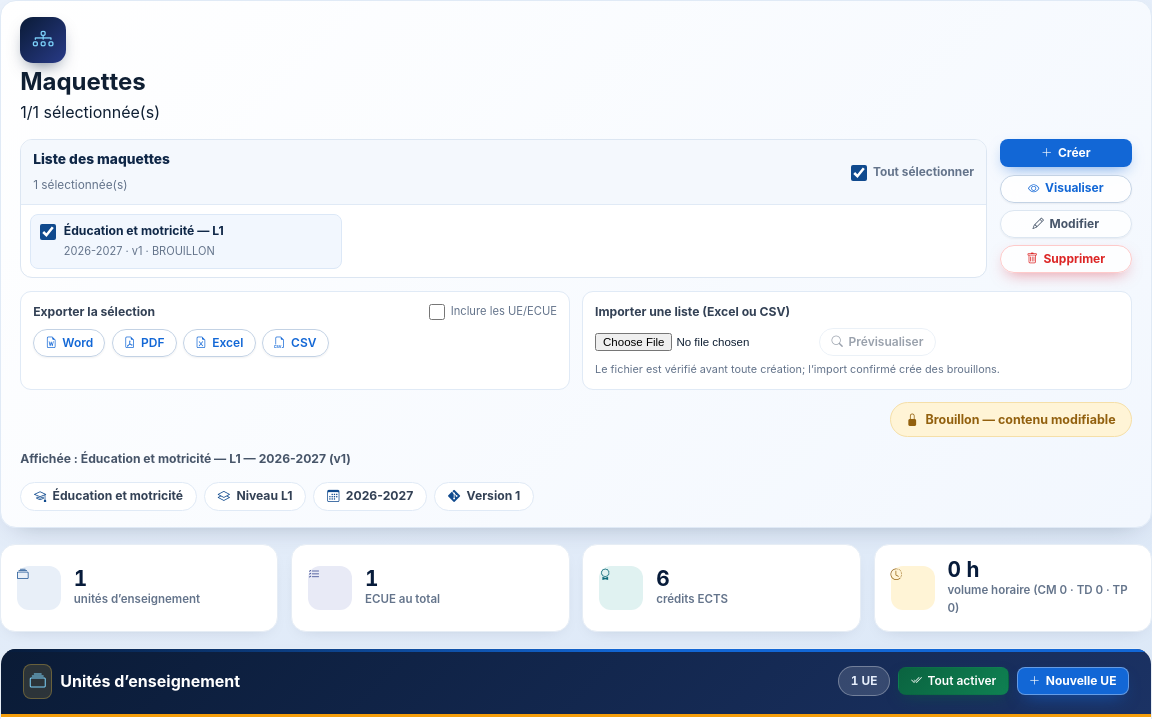
Test: création › crée une UE et envoie un corps typé à l’API
Click the button with test id "nouvelle-ue": (1073, 681) [1017,667,1129,695]
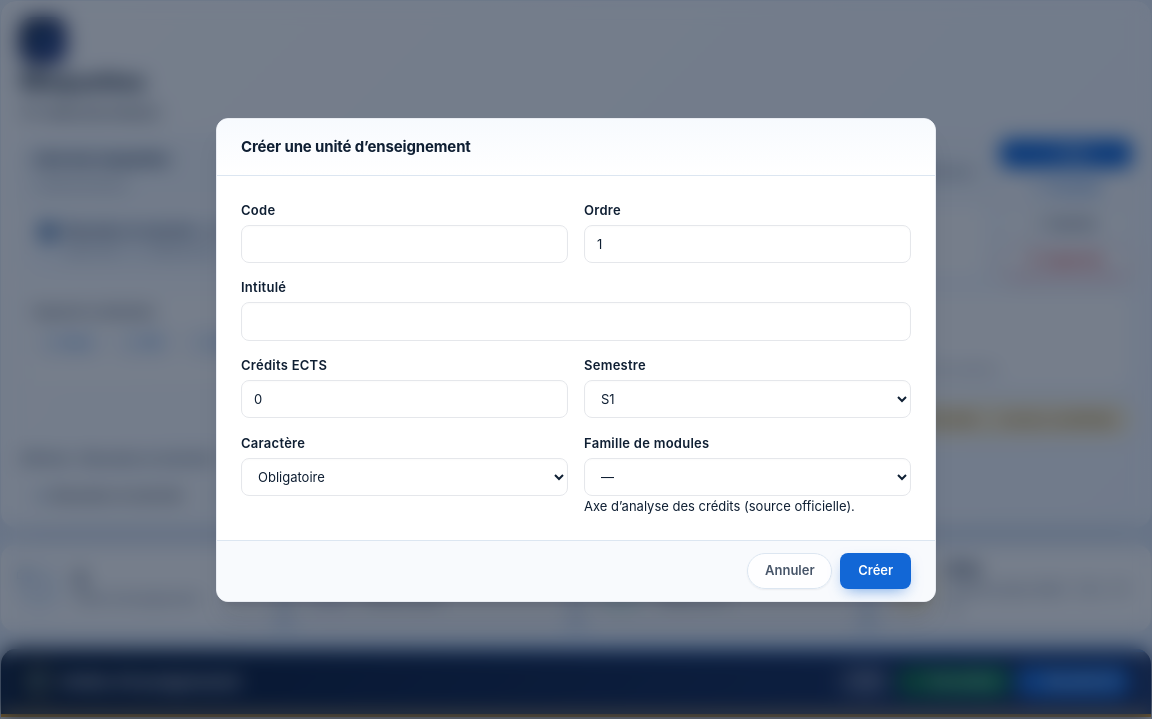
In the field with test id "element-code": (404, 244) [241,225,568,263], type "EM-S1-UE99"
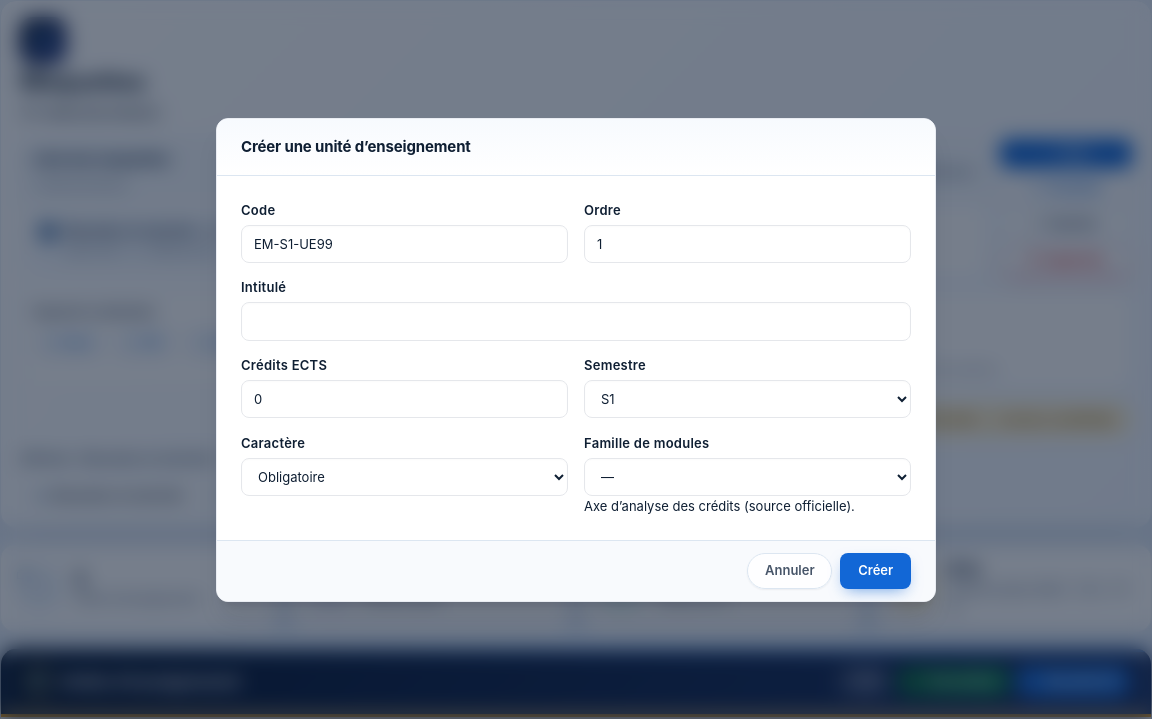
In the field with test id "element-intitule": (576, 322) [241,302,911,341], type "Nouvelle UE"
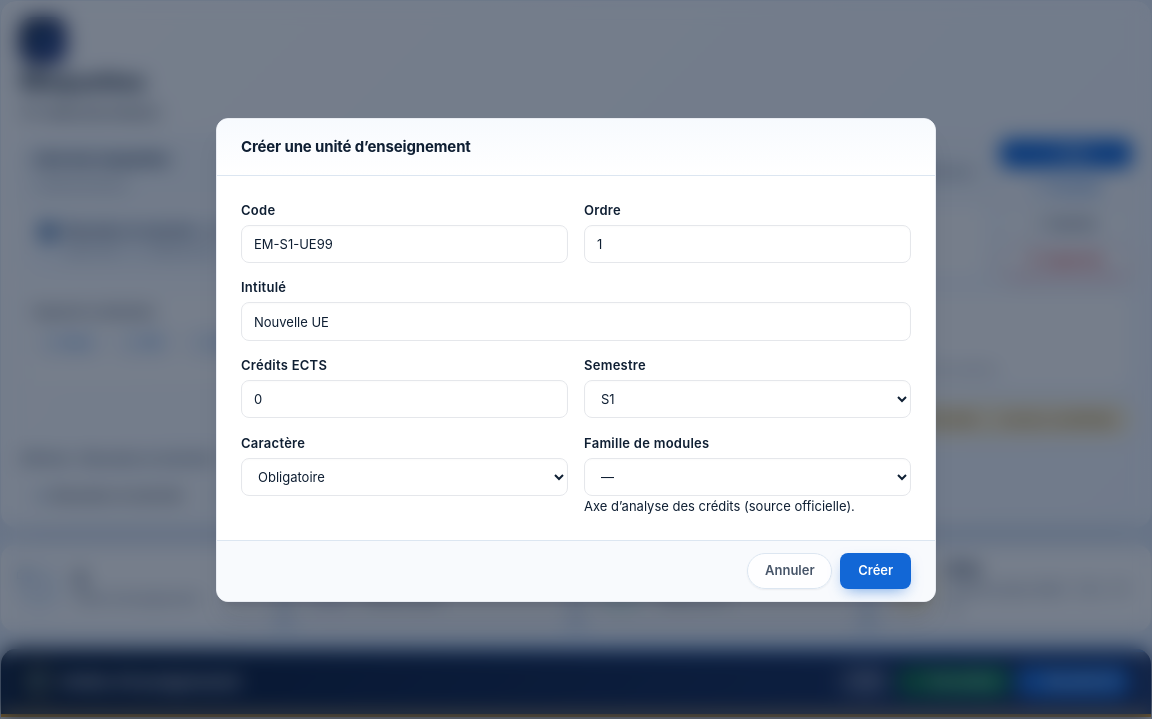
Replace the text in the number field with test id "element-credits" with "4": (404, 399) [241,380,568,418]
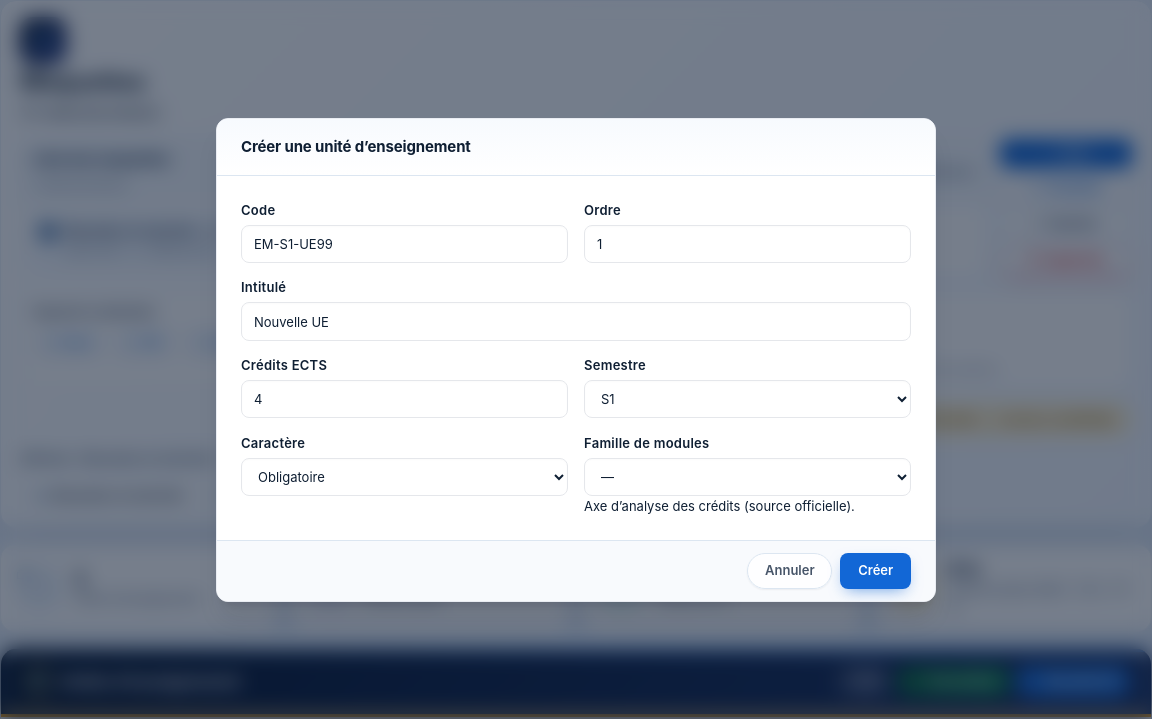
Submit the form with test id "formulaire-element", box [217,176,935,600]
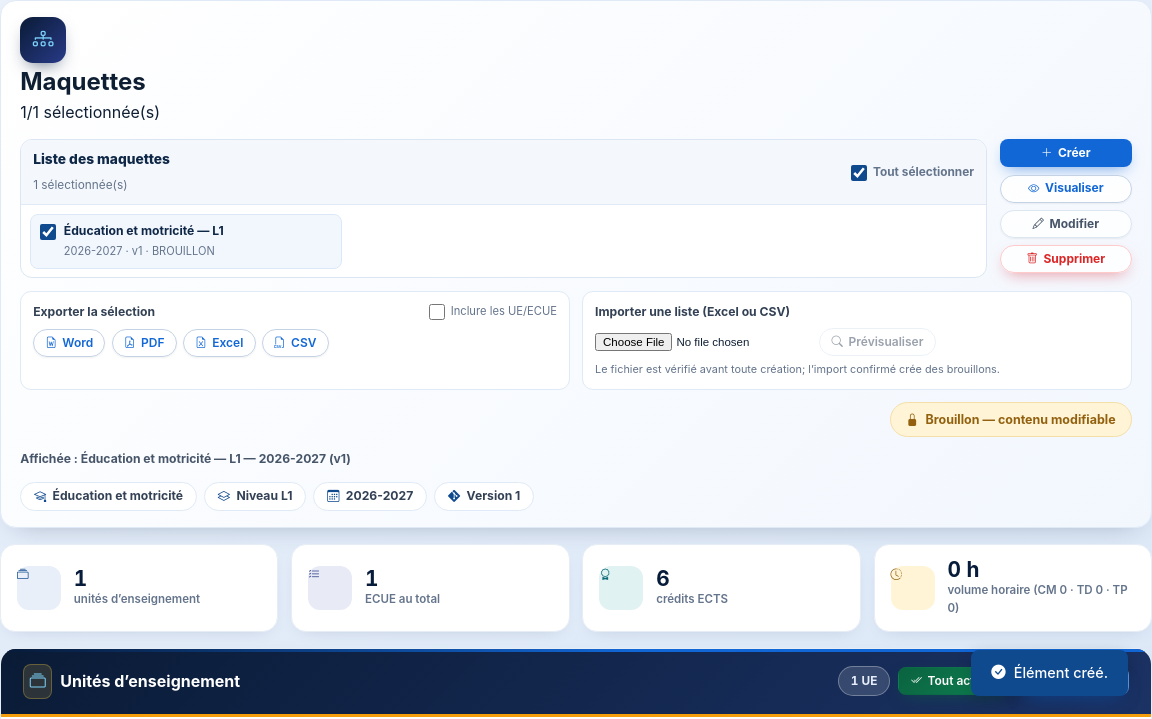
Result: the form with test id "formulaire-element" is gone
Result: the text "Élément créé." is shown at [971,650,1128,696]
